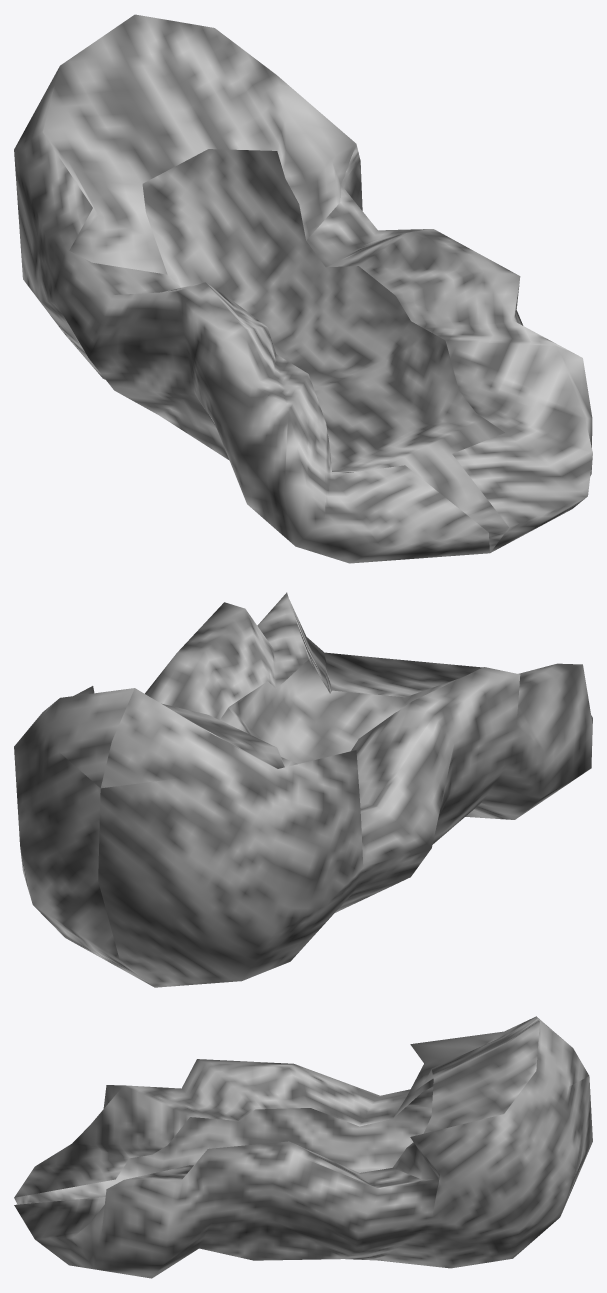
The model's file is Wig_Kate_Hair_KateCurly.fbx.
3 views of the same model, one above another, from view 1: azimuth 30°, elevation 25°; view 2: azimuth 150°, elevation 25°; view 3: azimuth 270°, elevation 25° (orthographic). The views are drawn at different scales.
Parts seen in each view (by area): view 1: BoxOfJars003; view 2: BoxOfJars003; view 3: BoxOfJars003.
Boxes of the visible parts, left/top/right/bottom form: BoxOfJars003: left=14, top=14, right=592, bottom=563; BoxOfJars003: left=14, top=592, right=592, bottom=987; BoxOfJars003: left=14, top=1016, right=592, bottom=1278.
Bounding box in the file's own units: 12.74 × 11.65 × 25.79.
